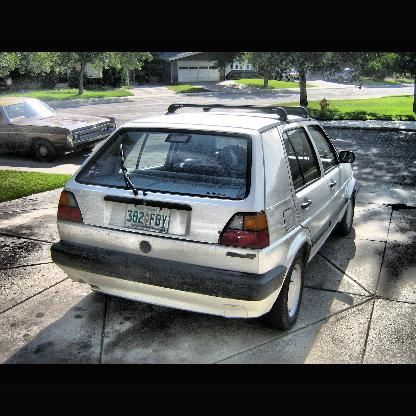Volkswagen Golf Hatchback 1991: (51, 104, 357, 332)
